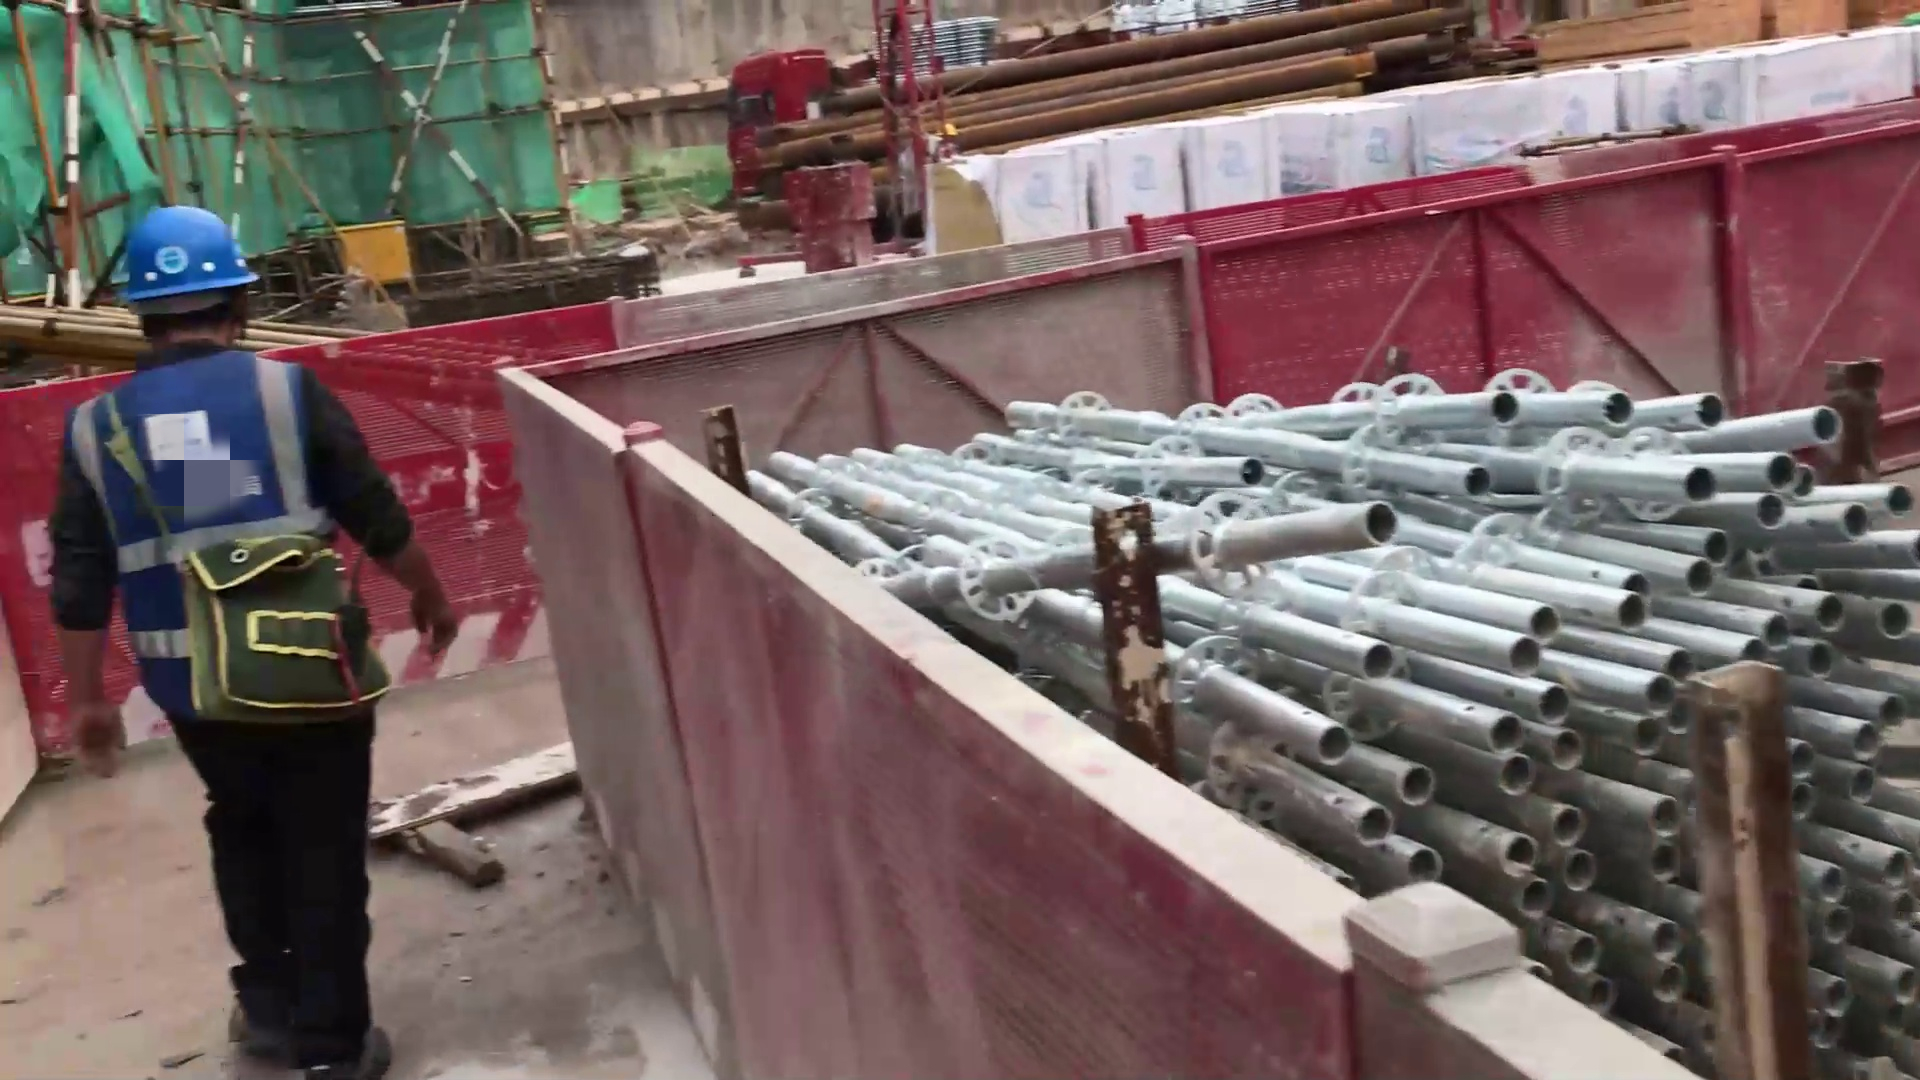ebox: (336, 216, 419, 299)
fence: (1207, 143, 1797, 393)
helmet: (114, 202, 270, 312)
person: (37, 204, 477, 1080)
scaffold: (1433, 360, 1910, 1016)
vest: (71, 348, 380, 711)
wood: (1532, 1, 1767, 65)
